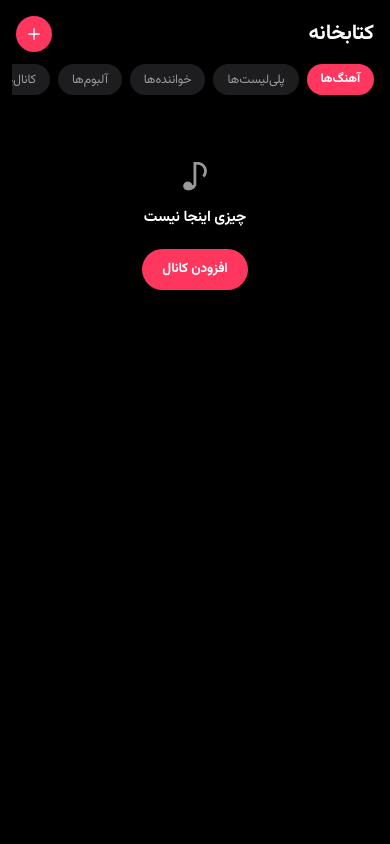
Test case: Library › explains private links instead of failing silently
The width and height of the screenshot is (390, 844).
Click the button named "افزودن کانال" at (34, 34), box [16,16,52,52]
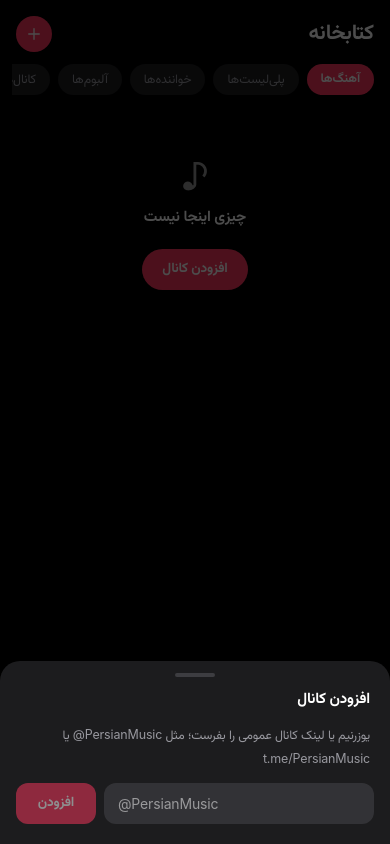
Type "https://t.me/+secret" into the field with placeholder "@PersianMusic" at (239, 804), box [104,783,374,824]
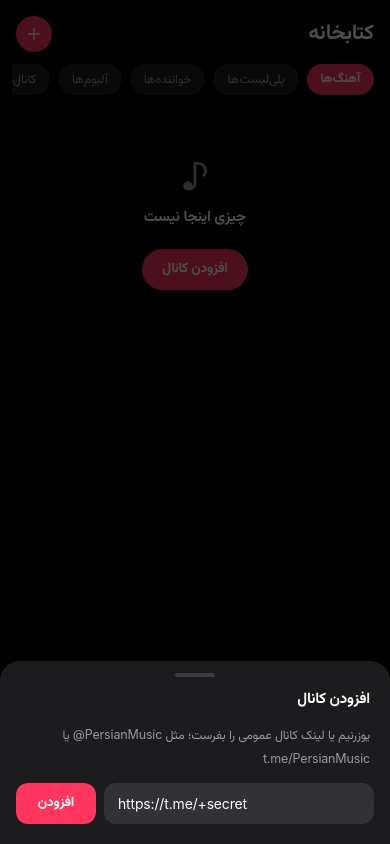
Click the button "افزودن" at (56, 804), box [16,783,96,824]
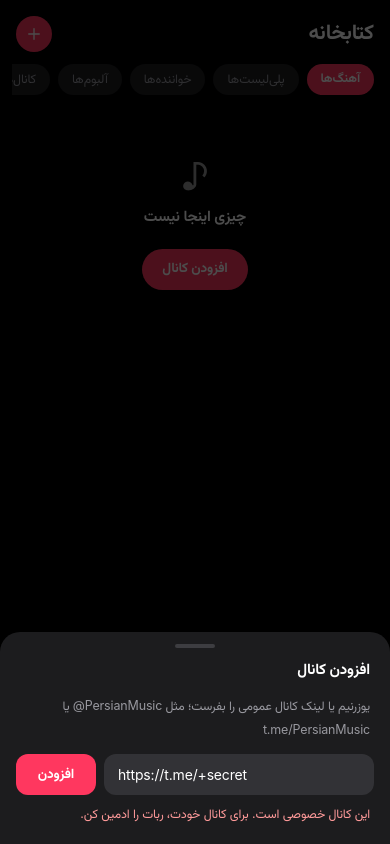
Check: the text "این کانال خصوصی است. برای کانال خودت، ربات را ادمین کن." is shown, box [80,806,370,821]
